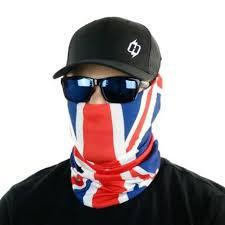cap: (46, 15, 168, 82)
scarf-kerchief: (64, 84, 165, 209)
sunglasses: (56, 73, 145, 105)
